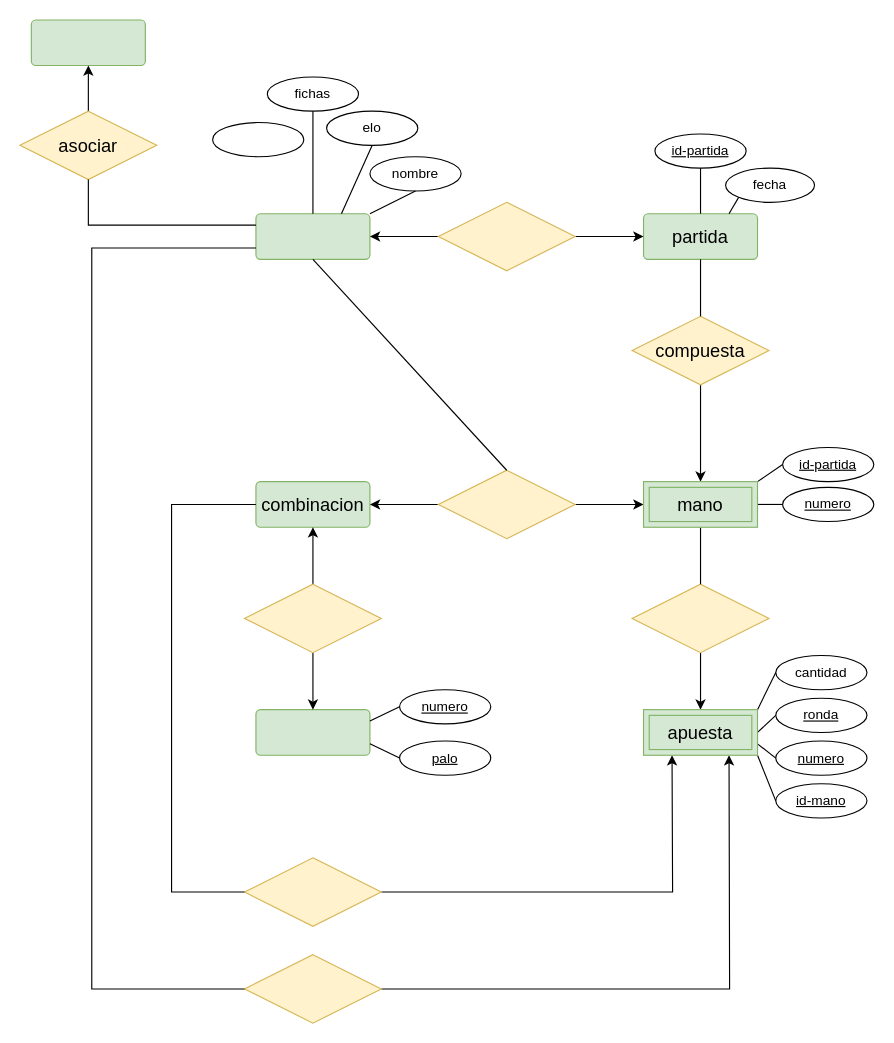
The diagram is 894 pixels wide and 1043 high, and some of its shapes have lost their labels. The centre of each missing label's shape, as x and y in pixels:
"cartas" goes at (x=312, y=732).
"hace" goes at (x=312, y=988).
"ID consiste" goes at (x=700, y=618).
"id-jugador" goes at (x=257, y=139).
"incluye" goes at (x=312, y=618).
"juega" goes at (x=506, y=236).
"jugador" goes at (x=312, y=236).
"metodo pago" goes at (x=87, y=42).
"mostrar" goes at (x=312, y=891).
"tiene" goes at (x=506, y=504).
